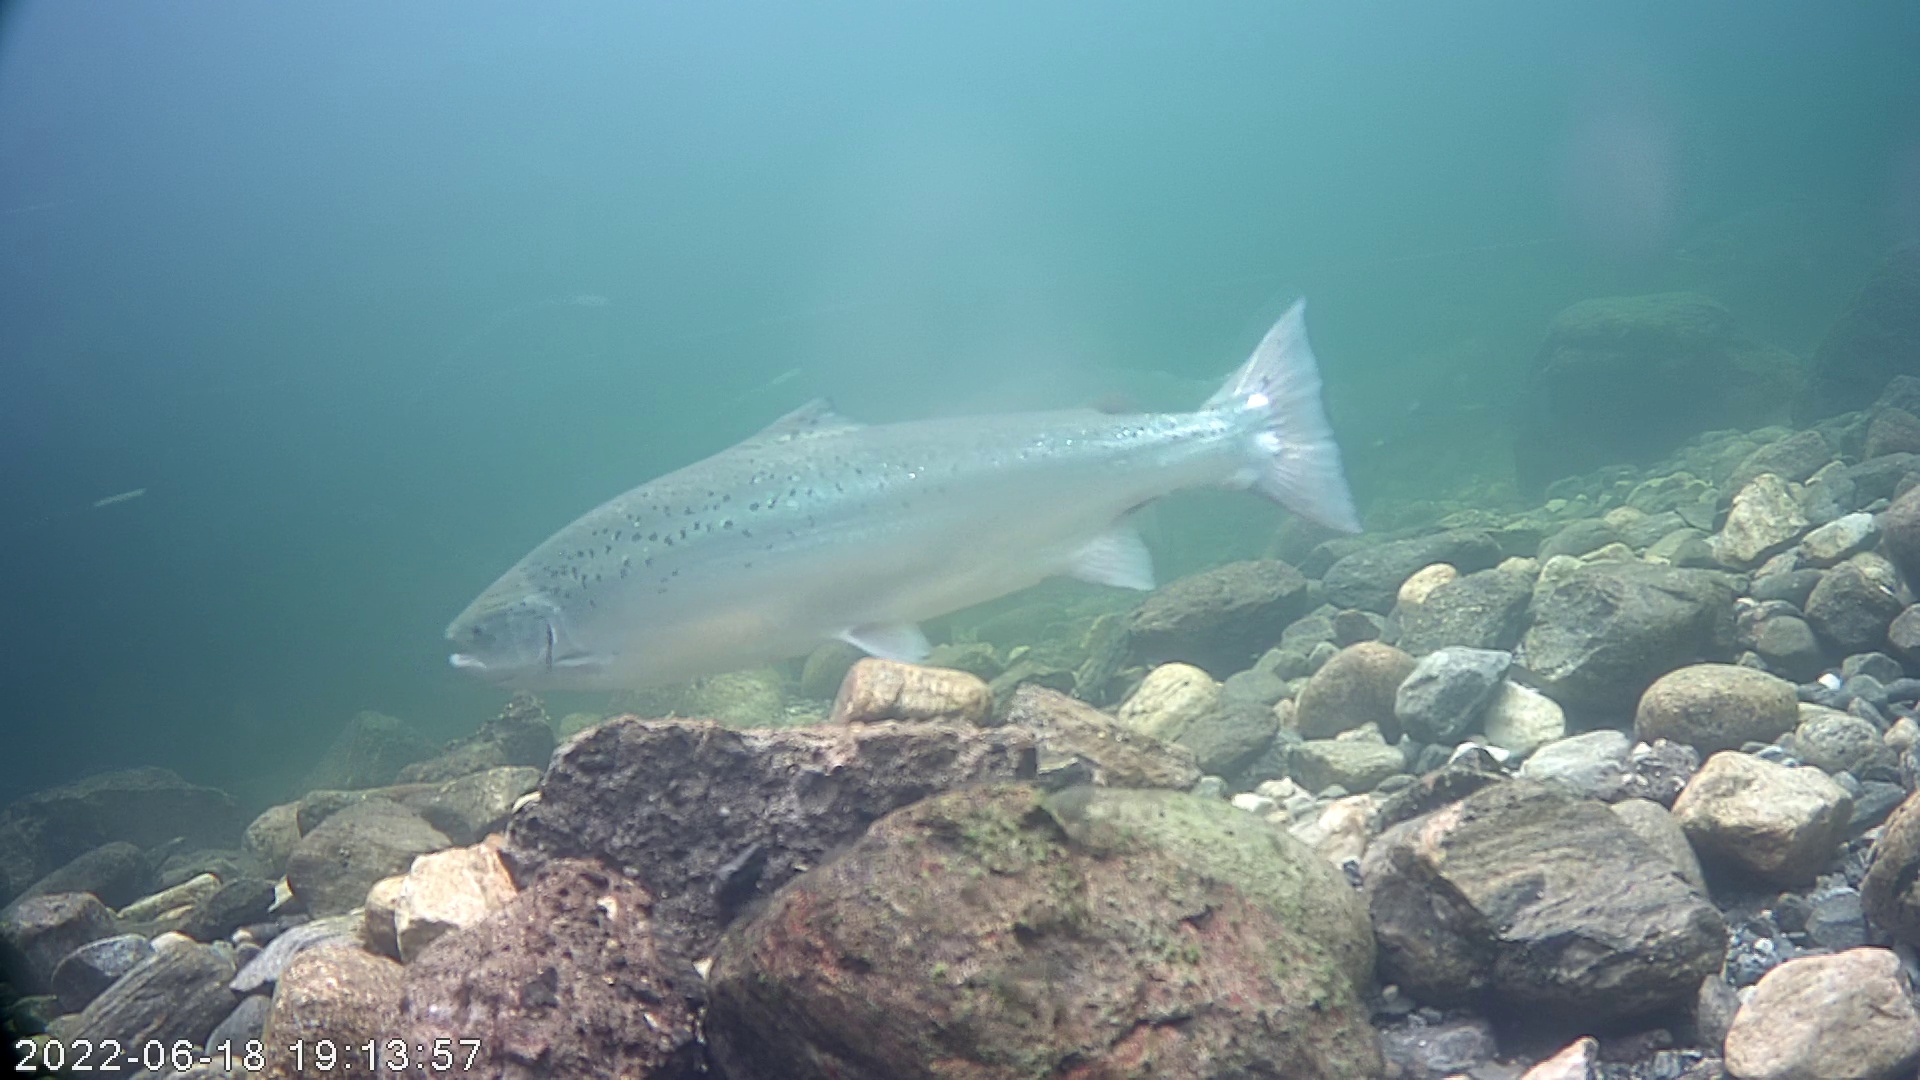salmon: (438, 295, 1365, 688)
